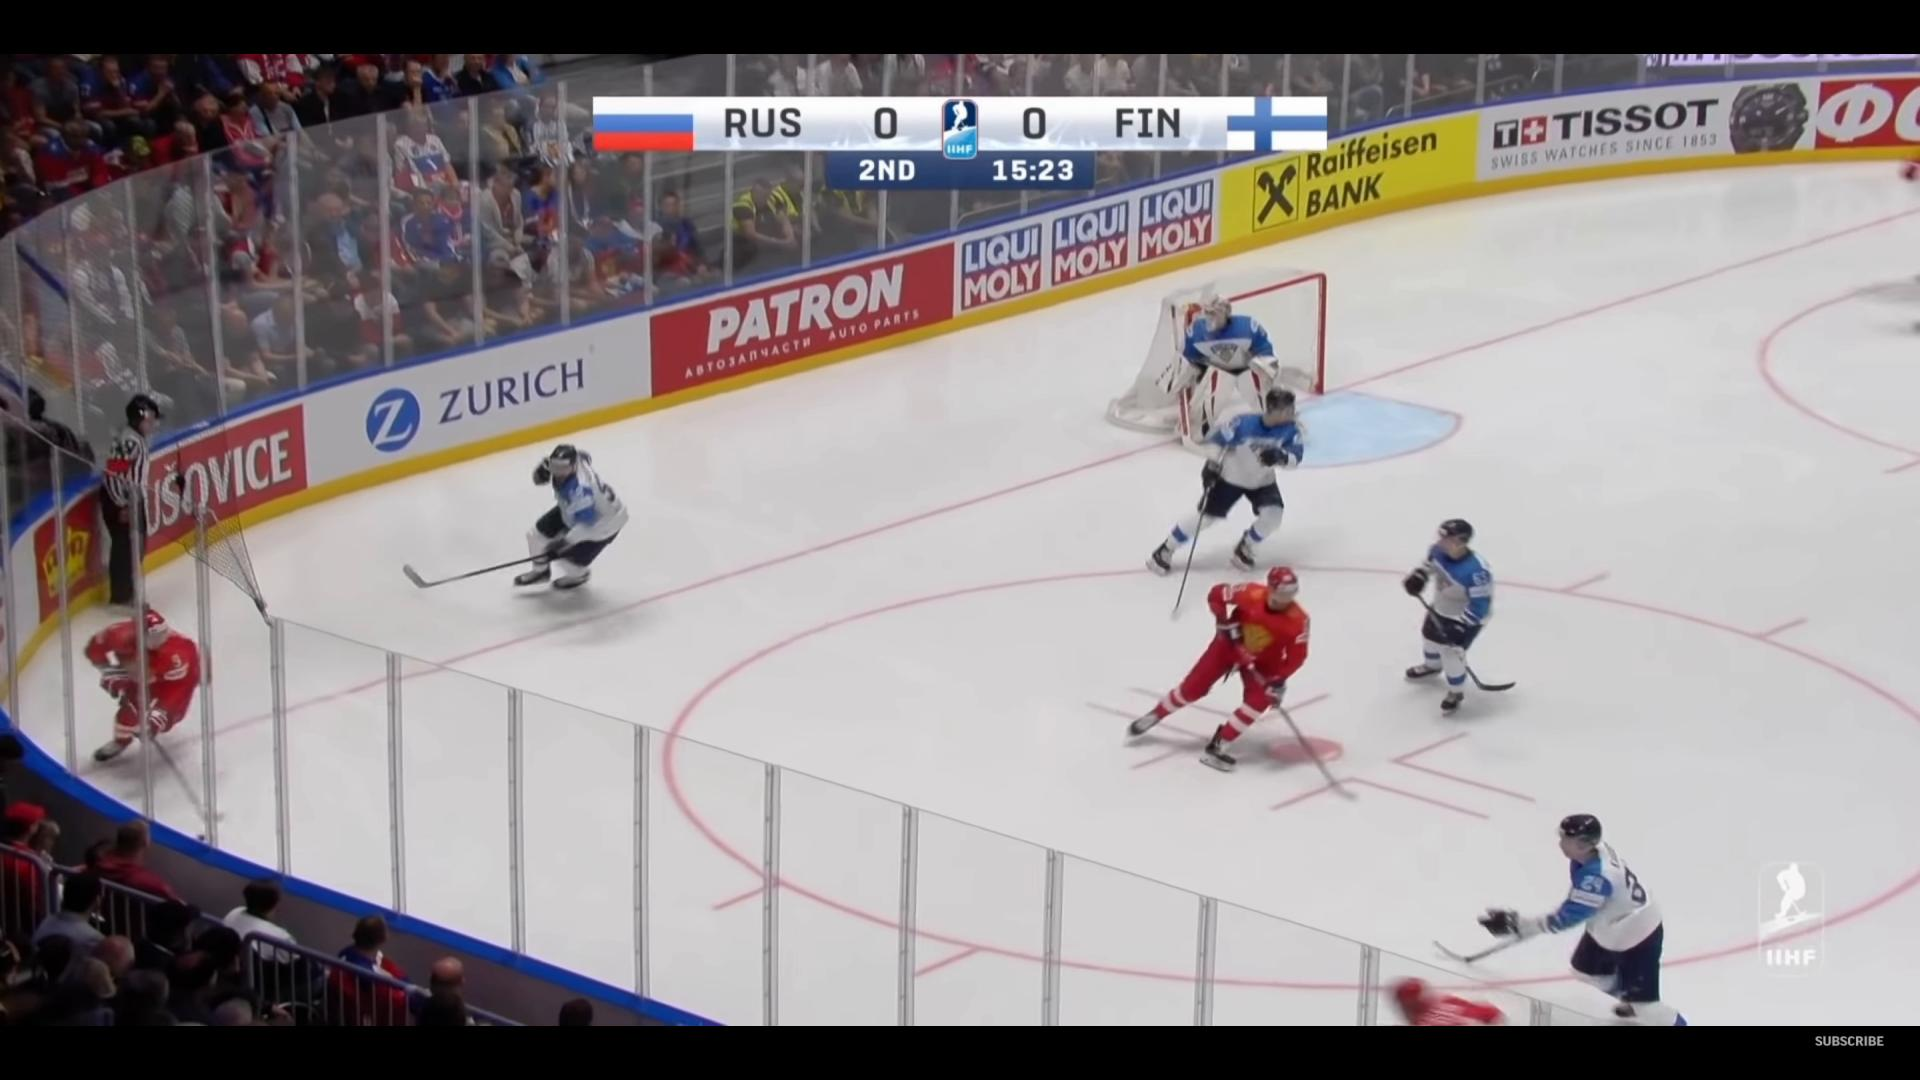puck: (196, 833, 206, 841)
